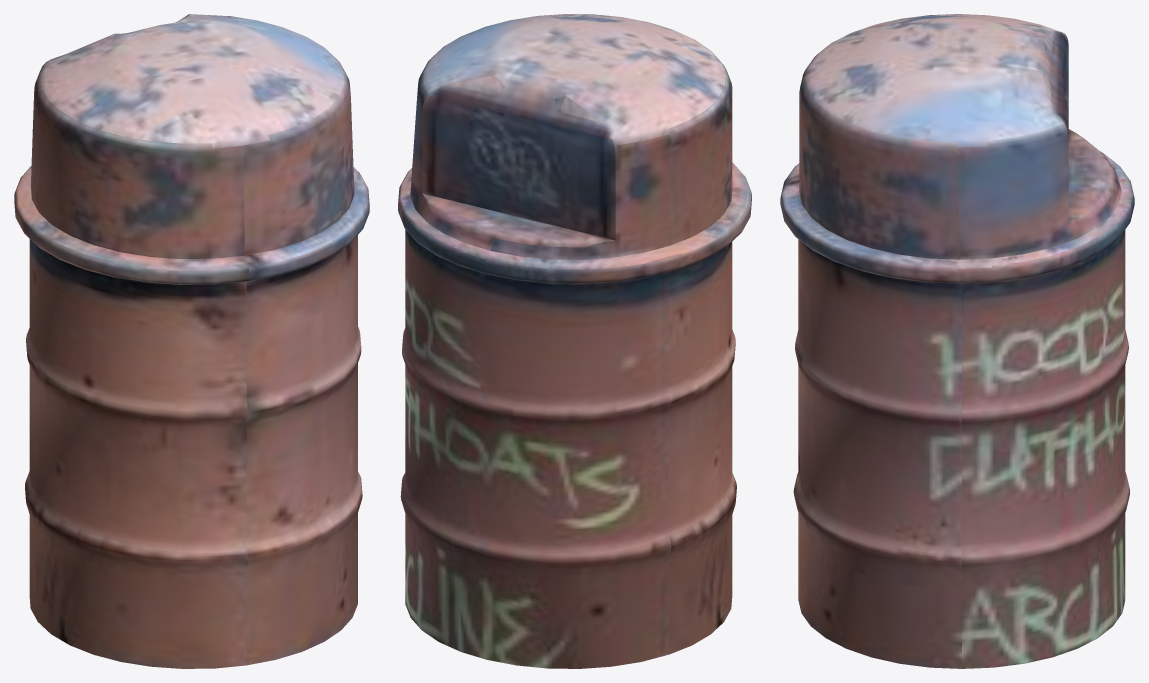
The model's file is p_trash.glb.
The picture shows the model from 3 angles, left to right: view 1: azimuth 30°, elevation 25°; view 2: azimuth 150°, elevation 25°; view 3: azimuth 270°, elevation 25°; orthographic projection.
Parts seen in each view (by area): view 1: trash_rebake_trash_bake_0; view 2: trash_rebake_trash_bake_0; view 3: trash_rebake_trash_bake_0.
Boxes of the visible parts, left/top/right/bottom form: trash_rebake_trash_bake_0: left=14, top=14, right=369, bottom=668; trash_rebake_trash_bake_0: left=398, top=14, right=751, bottom=668; trash_rebake_trash_bake_0: left=780, top=14, right=1134, bottom=668.
Size of the model in its own units: 6.45 by 11 by 6.45.
1 material, 1 textured.
